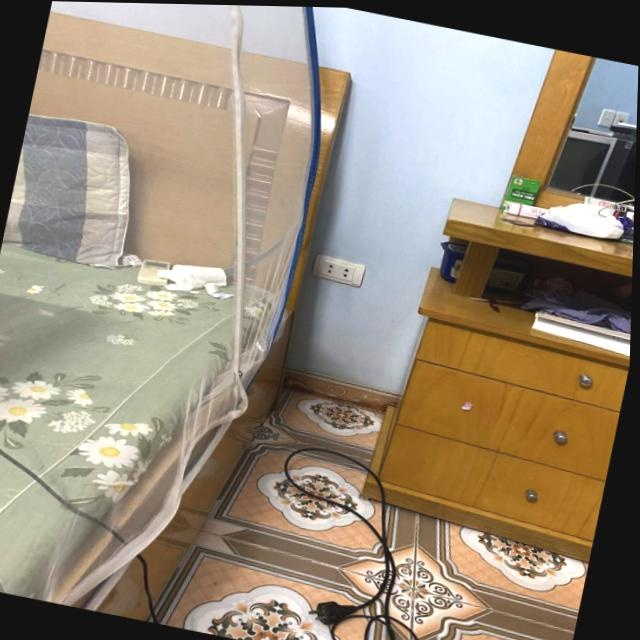outlet: (310, 252, 367, 287)
